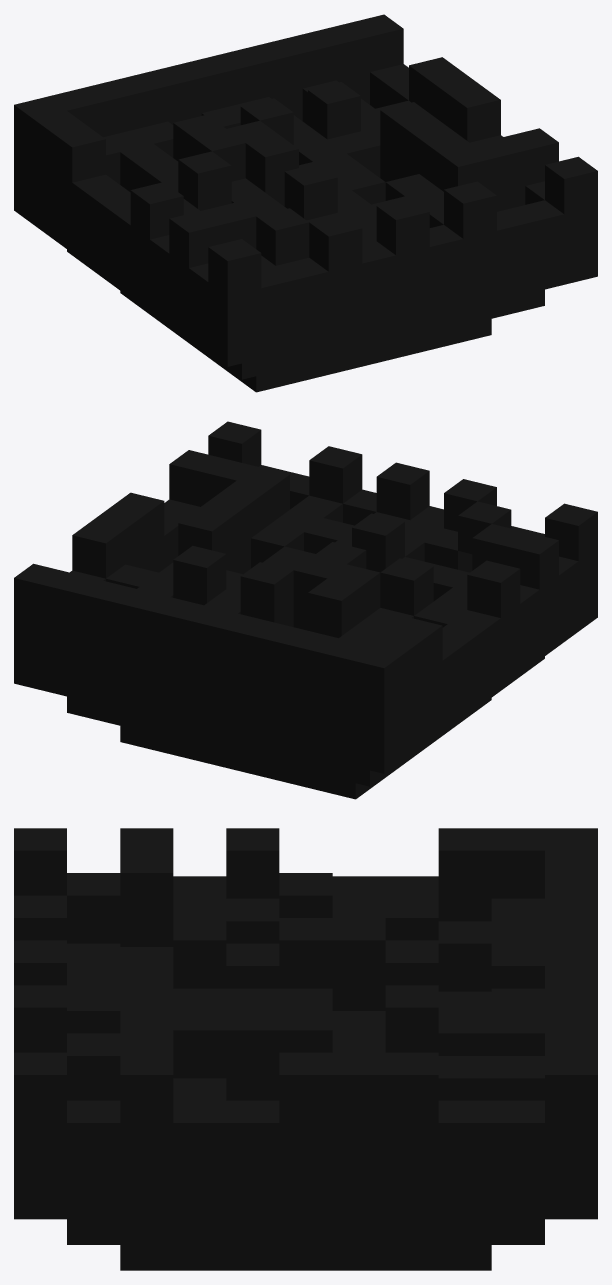
The model's file is Medieval Assets-251-Decoration - Cauldron - Filler.obj.
3 views of the same model, one above another, from view 1: azimuth 30°, elevation 25°; view 2: azimuth 150°, elevation 25°; view 3: azimuth 270°, elevation 25° (orthographic). The views are drawn at different scales.
Parts seen in each view (by area): view 1: Decoration - Cauldron - Filler; view 2: Decoration - Cauldron - Filler; view 3: Decoration - Cauldron - Filler.
Part boxes in pixels (<box>): Decoration - Cauldron - Filler: <box>14,14,597,392</box>; Decoration - Cauldron - Filler: <box>14,421,597,799</box>; Decoration - Cauldron - Filler: <box>14,828,597,1270</box>.
Bounding box in the file's own units: 1.1 × 0.5 × 1.1.
1 material, 1 textured.
